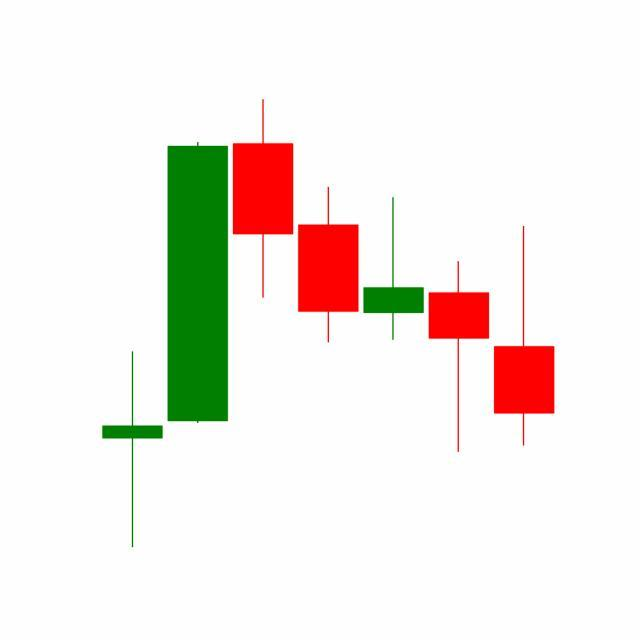Hikkake Pattern: (165, 100, 492, 458)
